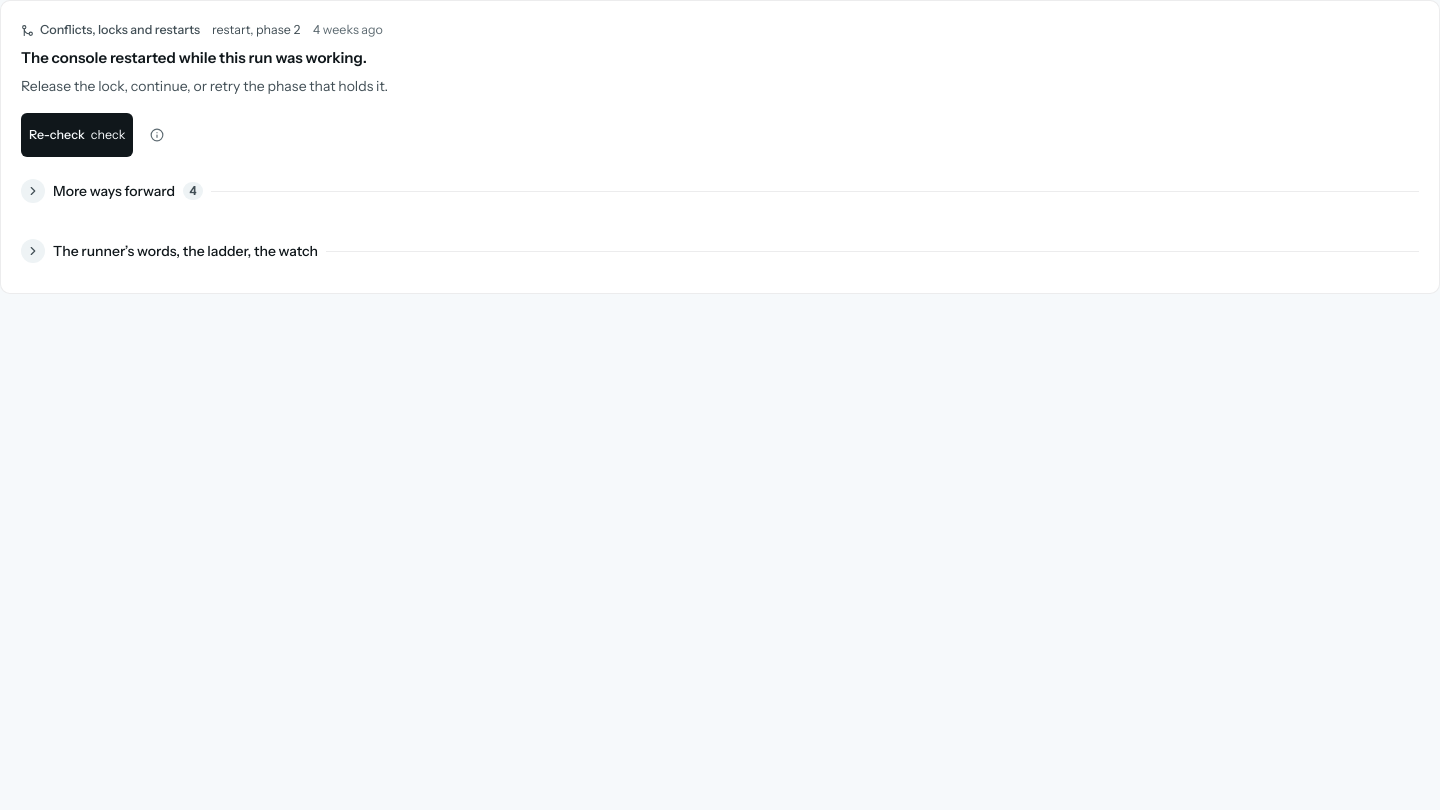
Test: the card names the family, one sentence, and the ONE recommended recovery › conflict: the recommended verb is drawn first and alone — every other way forward is one press behind it
Expected: the button "Pick up with a new agent" is not shown
Expected: the button "Retry from scratch" is not shown
Click the text "More ways forward": x=114, y=191 [53, 181, 175, 202]
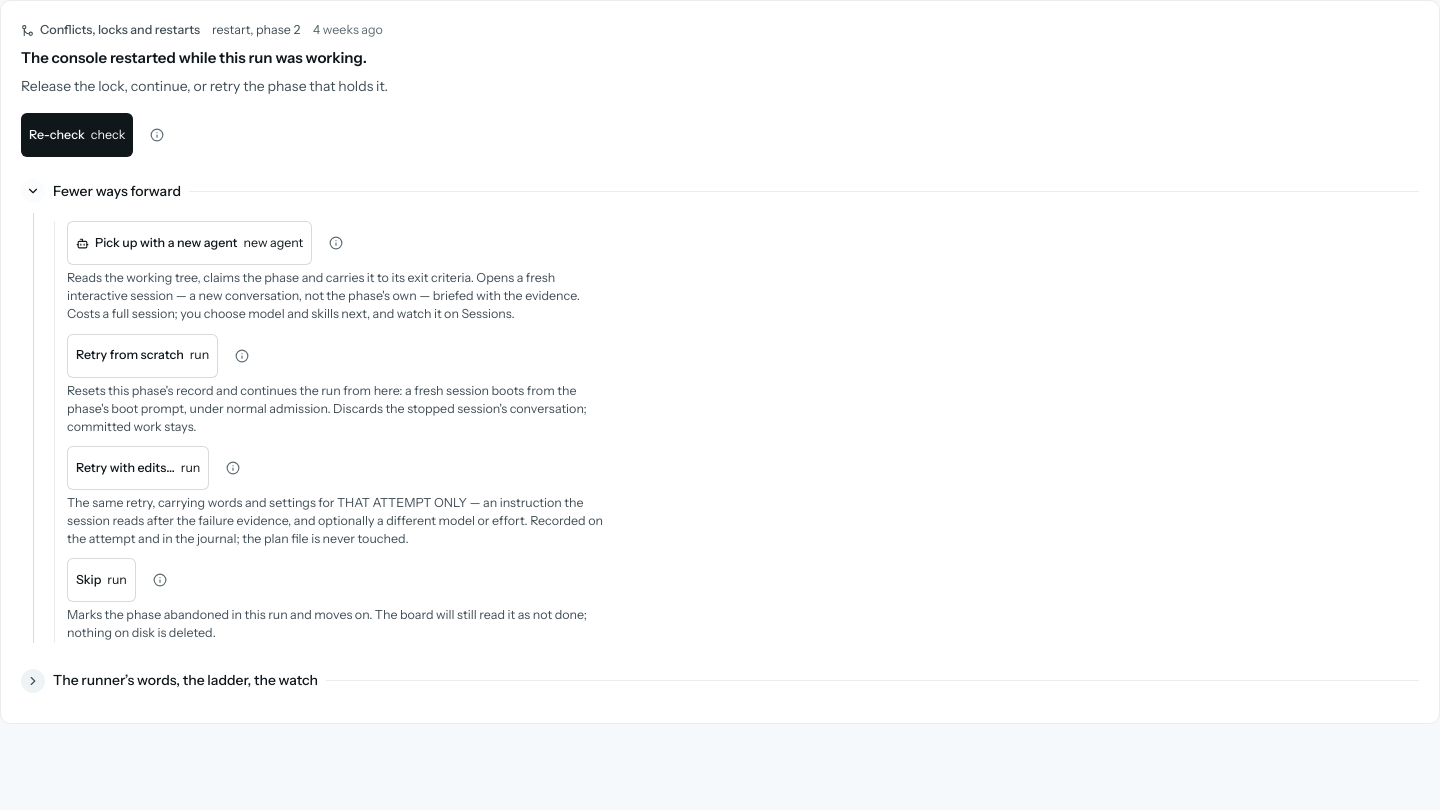
Expected: the button "Pick up with a new agent new agent" is shown, [67, 221, 312, 265]
Expected: the button "Retry from scratch run" is shown, [67, 334, 218, 378]
Expected: the button "Retry with edits… run" is shown, [67, 446, 209, 490]
